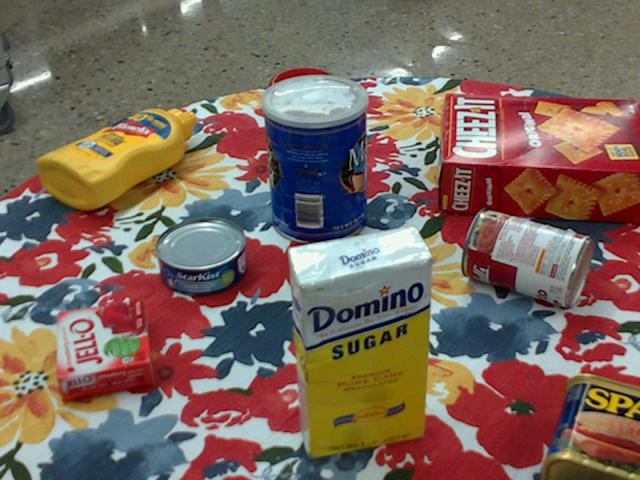cracker_box: (439, 93, 639, 224)
gelatin_box: (59, 302, 154, 405)
master_chef_can: (262, 74, 369, 245)
mug: (267, 67, 357, 161)
mustard_bottle: (36, 108, 196, 209)
potted_meat_can: (543, 371, 639, 479)
sugar_box: (285, 224, 431, 461)
tomato_soup_can: (464, 208, 595, 305)
tuna_fish_can: (154, 218, 246, 296)
